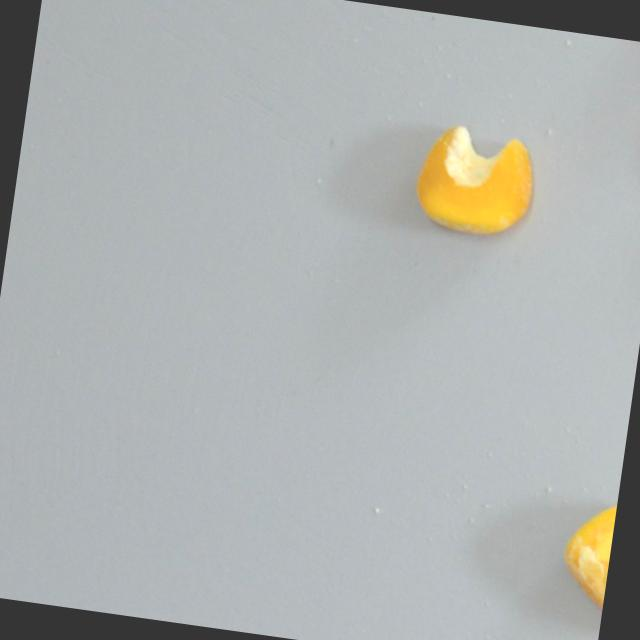no_canjicado: (409, 117, 540, 239)
pelicula: (555, 492, 618, 633)
